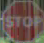Stop: (1, 1, 43, 41)
